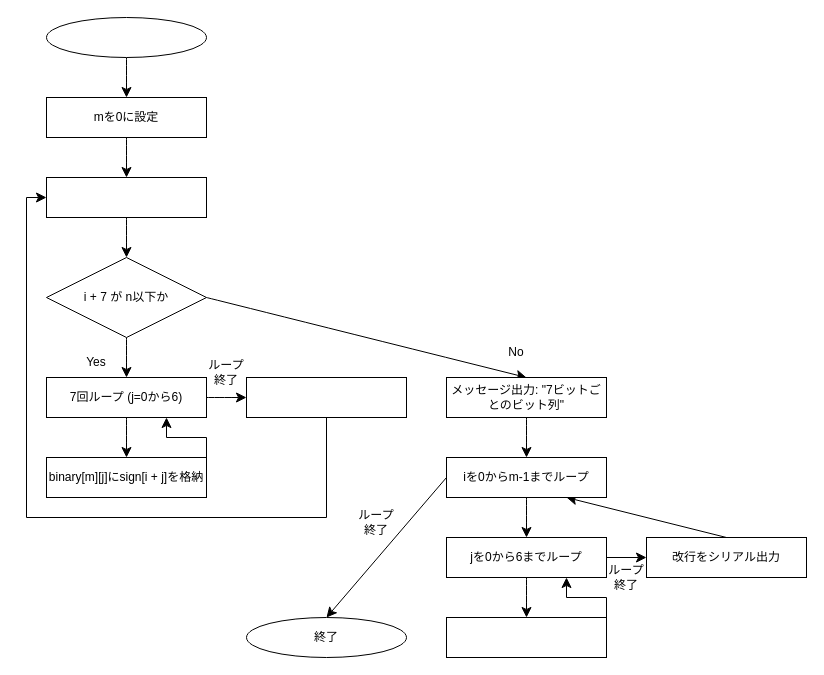
This 824x675 diagram has some shape labels left out. Each missing label, with the centre of its shape:
"binary[i][j]をシリアル出力" belongs at (x=526, y=637).
"iを0からnまで7ずつ増やす" belongs at (x=126, y=197).
"mをインクリメント" belongs at (x=326, y=397).
"開始" belongs at (x=126, y=37).
